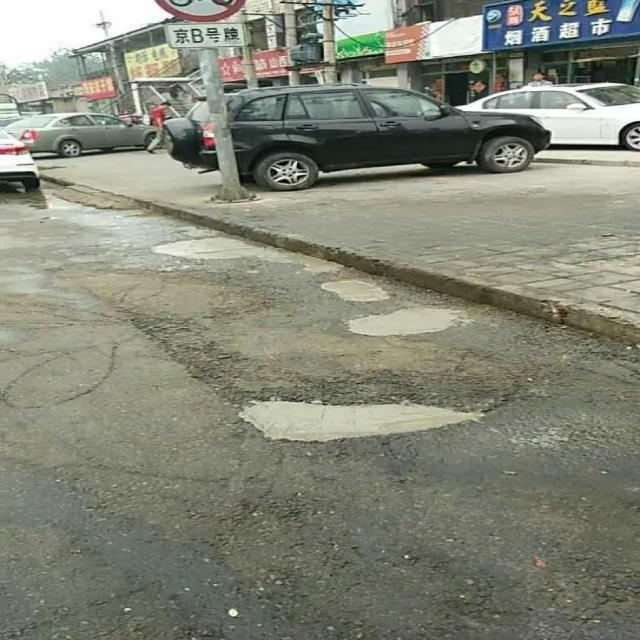pothole: (222, 398, 500, 446), (141, 236, 347, 276), (340, 305, 468, 335), (317, 279, 395, 302)
